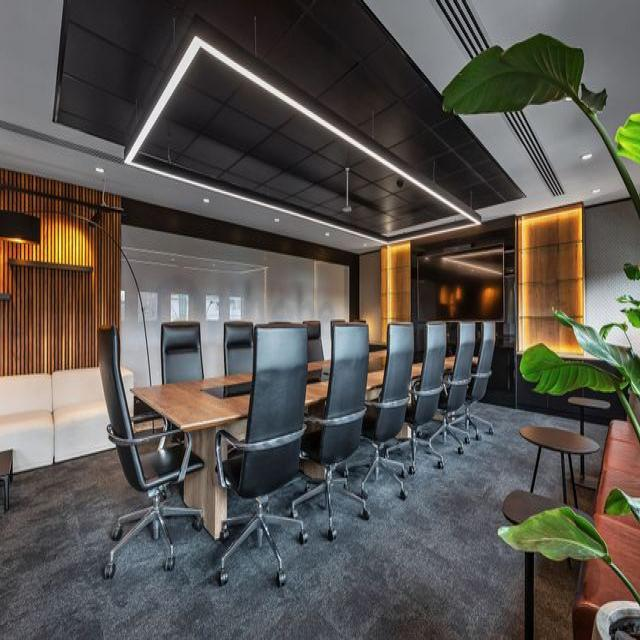chair: (93, 324, 203, 572), (216, 318, 305, 592), (313, 320, 369, 526)
